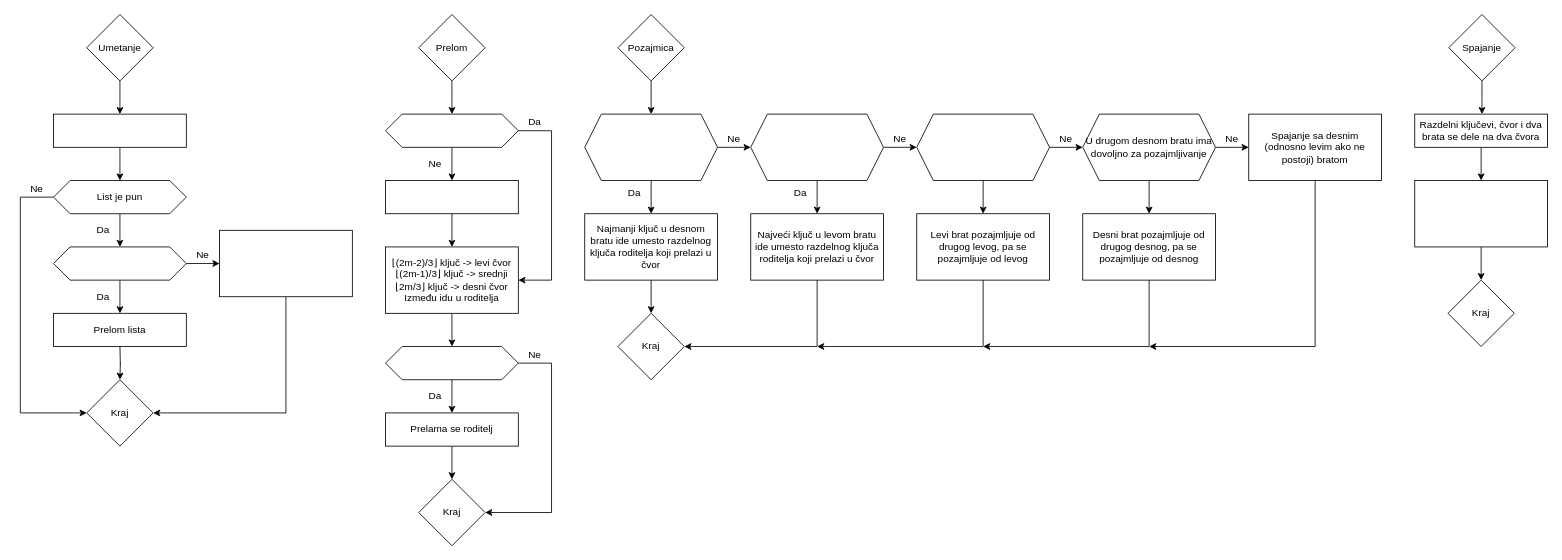
This 1562x560 diagram has some shape labels left out. The box of each missing label's shape, as (x1, y1, x2, y2) in pixels:
Alocira se roditelj Povećava se visina: (385, 180, 518, 214)
Brat je pun: (53, 246, 186, 280)
Dealocira se najdesniji čvor i briše se pokazivač na njega iz roditeljskog čvora: (1414, 180, 1548, 247)
Novi čvor se umeće u list: (53, 113, 186, 147)
Roditelj je pun: (385, 346, 518, 380)
U desnom bratu ima dovoljno za pozajmljivanje: (584, 113, 718, 181)
U drugom levom bratu ima dovoljno za pozajmljivanje: (916, 113, 1050, 181)
U levom bratu ima dovoljno za pozajmljivanje: (750, 113, 884, 181)
Čvor ima roditelja: (385, 113, 518, 147)
⌊(m+j+1)/2⌋ ključeva ostaje u čvoru, jedan odlazi u roditelja, ostali u brata: (219, 229, 352, 297)
